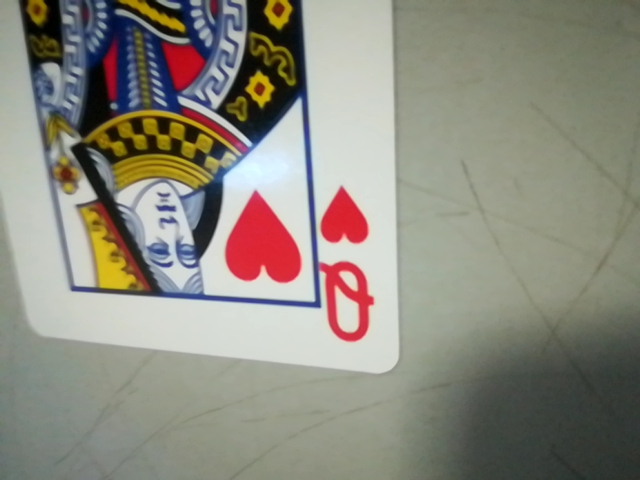hx q: (309, 177, 389, 357)
